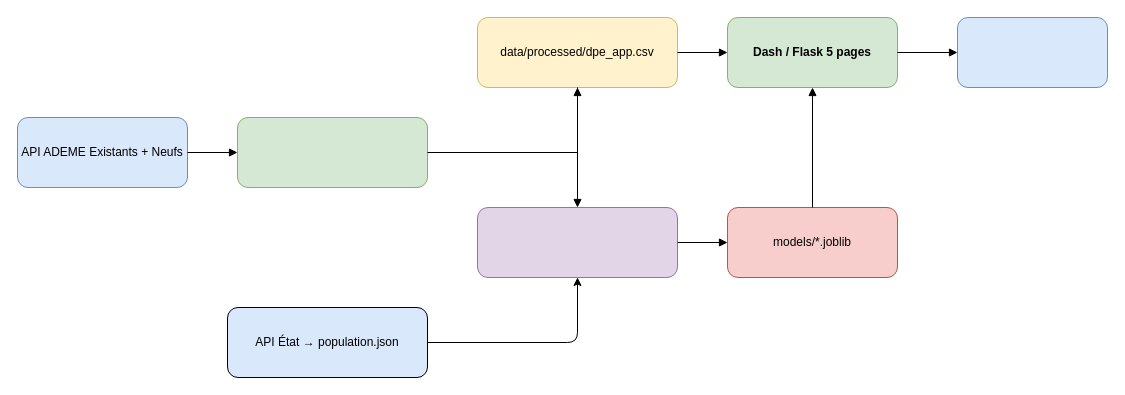
The diagram is 1125 pixels wide and 395 high, and some of its shapes have lost their labels. The shapes that lost their labels are listed below. From the top down, each one's box as (x1, y1, x2, y2) in pixels, then its label:
(956, 16, 1108, 88): Docker + Render
(236, 116, 428, 188): scripts/download_ademe.py
(476, 206, 678, 278): scripts/train_models.py GridSearchCV
